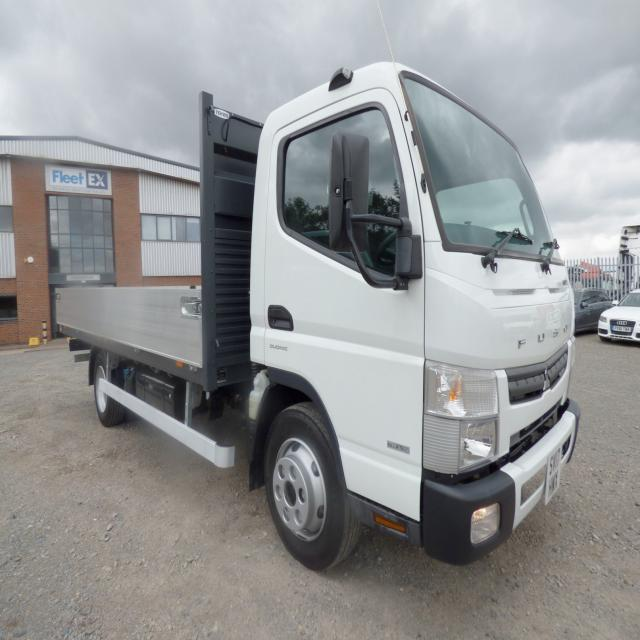truck: (52, 57, 582, 565)
